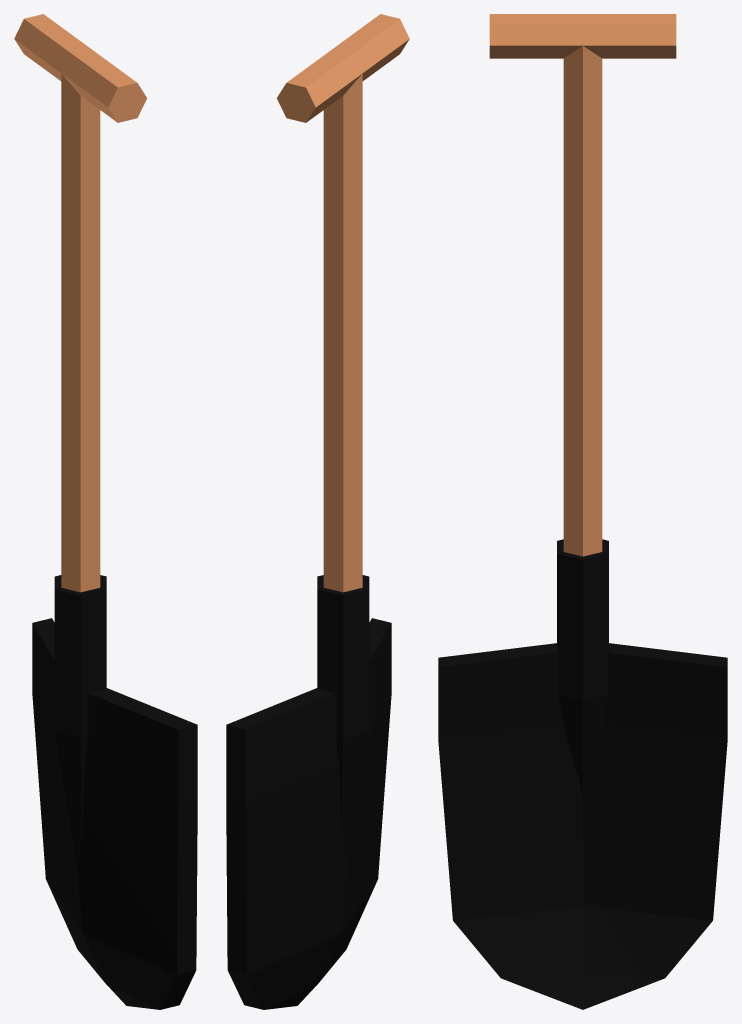
The model's file is pala.fbx.
3 views of the same model, side by side, from view 1: azimuth 30°, elevation 25°; view 2: azimuth 150°, elevation 25°; view 3: azimuth 270°, elevation 25° (orthographic).
Parts seen in each view (by area): view 1: Pala_pala, Pala_palo; view 2: Pala_pala, Pala_palo; view 3: Pala_pala, Pala_palo.
Part boxes in pixels (x1,y1,x2,y2): Pala_pala: (32,575,197,1009); Pala_palo: (14,14,146,592); Pala_pala: (226,575,391,1009); Pala_palo: (277,14,409,592); Pala_pala: (438,539,727,1009); Pala_palo: (489,14,676,556).
Bounding box in the file's own units: 14.02 × 142 × 38.77.
